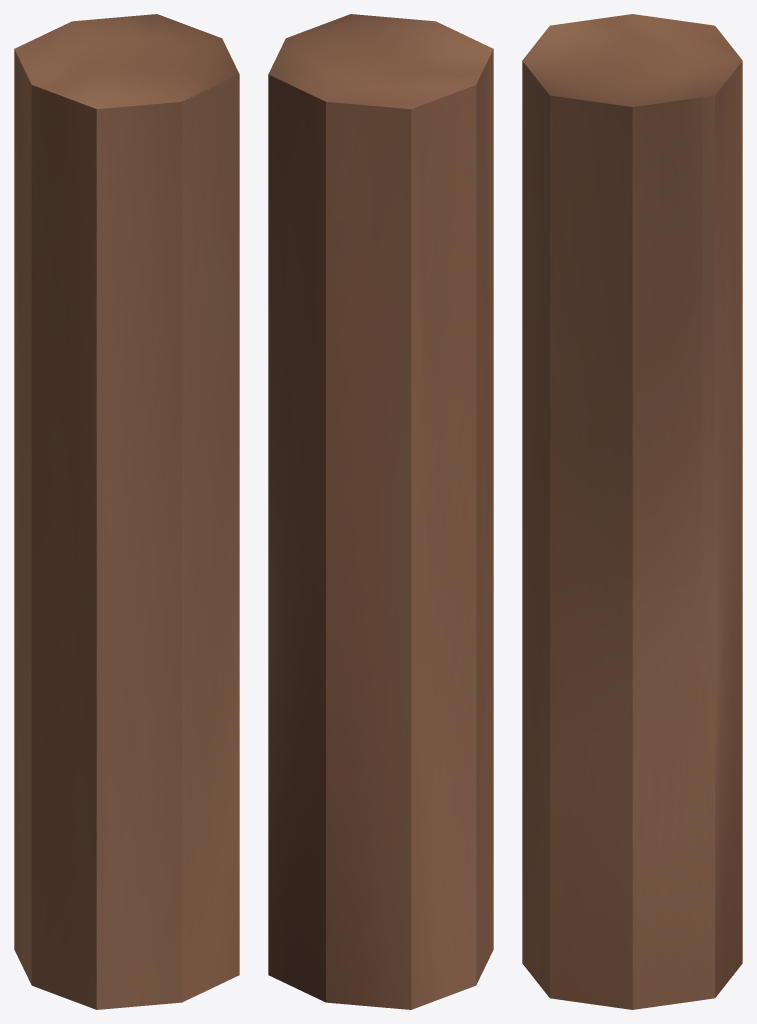
File: Forest_Fence_Post.fbx
The picture shows the model from 3 angles, left to right: view 1: azimuth 30°, elevation 25°; view 2: azimuth 150°, elevation 25°; view 3: azimuth 270°, elevation 25°; orthographic projection.
Visible parts, largest first — view 1: Fence Post; view 2: Fence Post; view 3: Fence Post.
Part boxes in pixels (x1,y1,x2,y2): Fence Post: (14,14,239,1009); Fence Post: (268,14,493,1009); Fence Post: (522,14,742,1009).
Bounding box in the file's own units: 0.9597 × 0.9597 × 4.34.
Materials: 1 (1 with a texture image).
